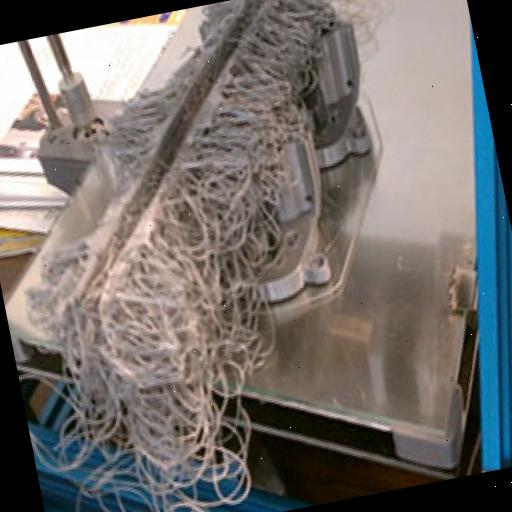spaghetti: (0, 0, 418, 512)
